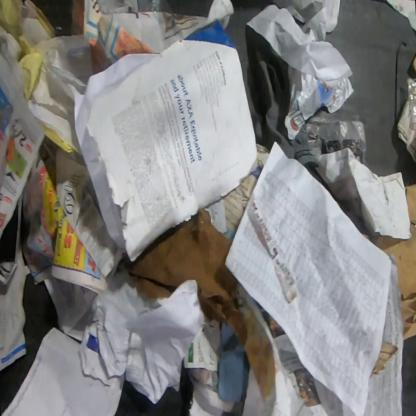cardboard: (371, 184, 415, 301), (411, 55, 415, 75)
metal: (395, 39, 408, 128)
soft_plastic: (405, 78, 416, 132)
